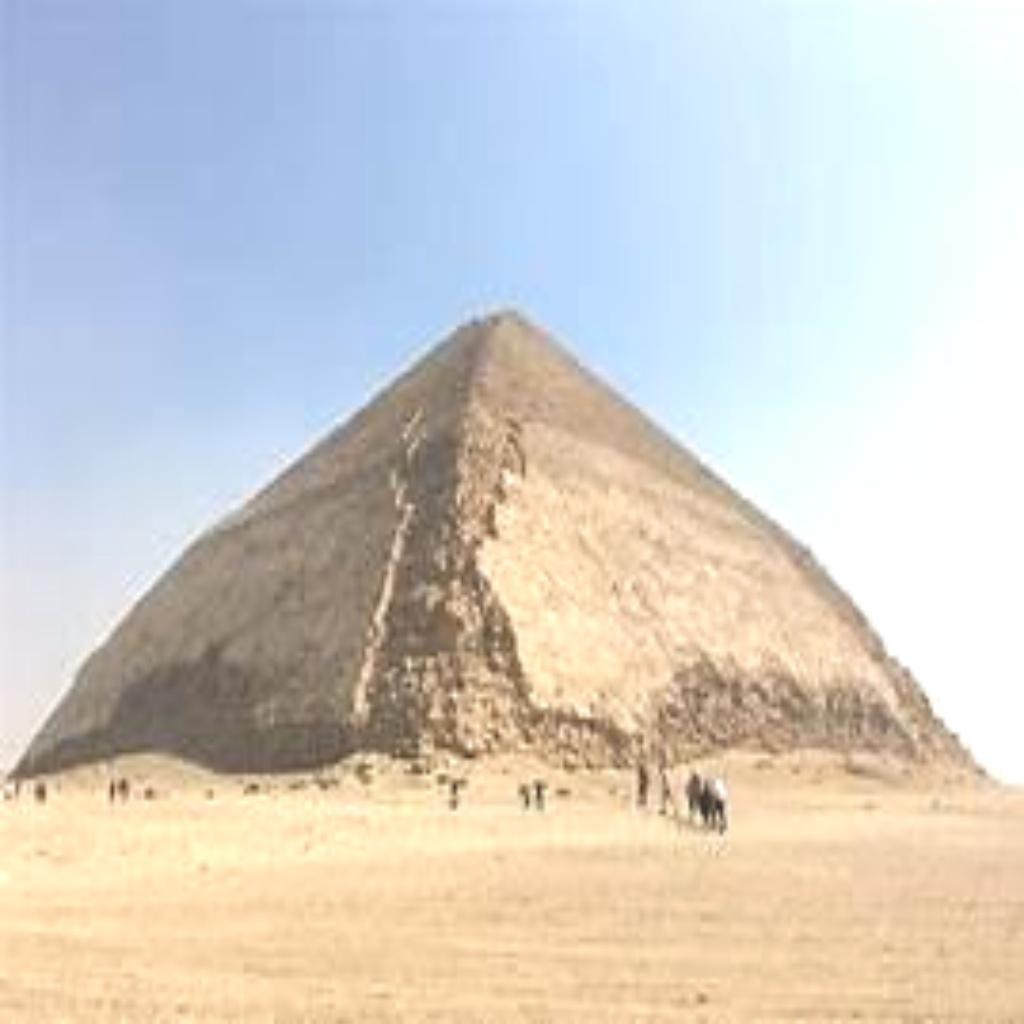Bent Pyramid of King Sneferu: (0, 296, 990, 794)
